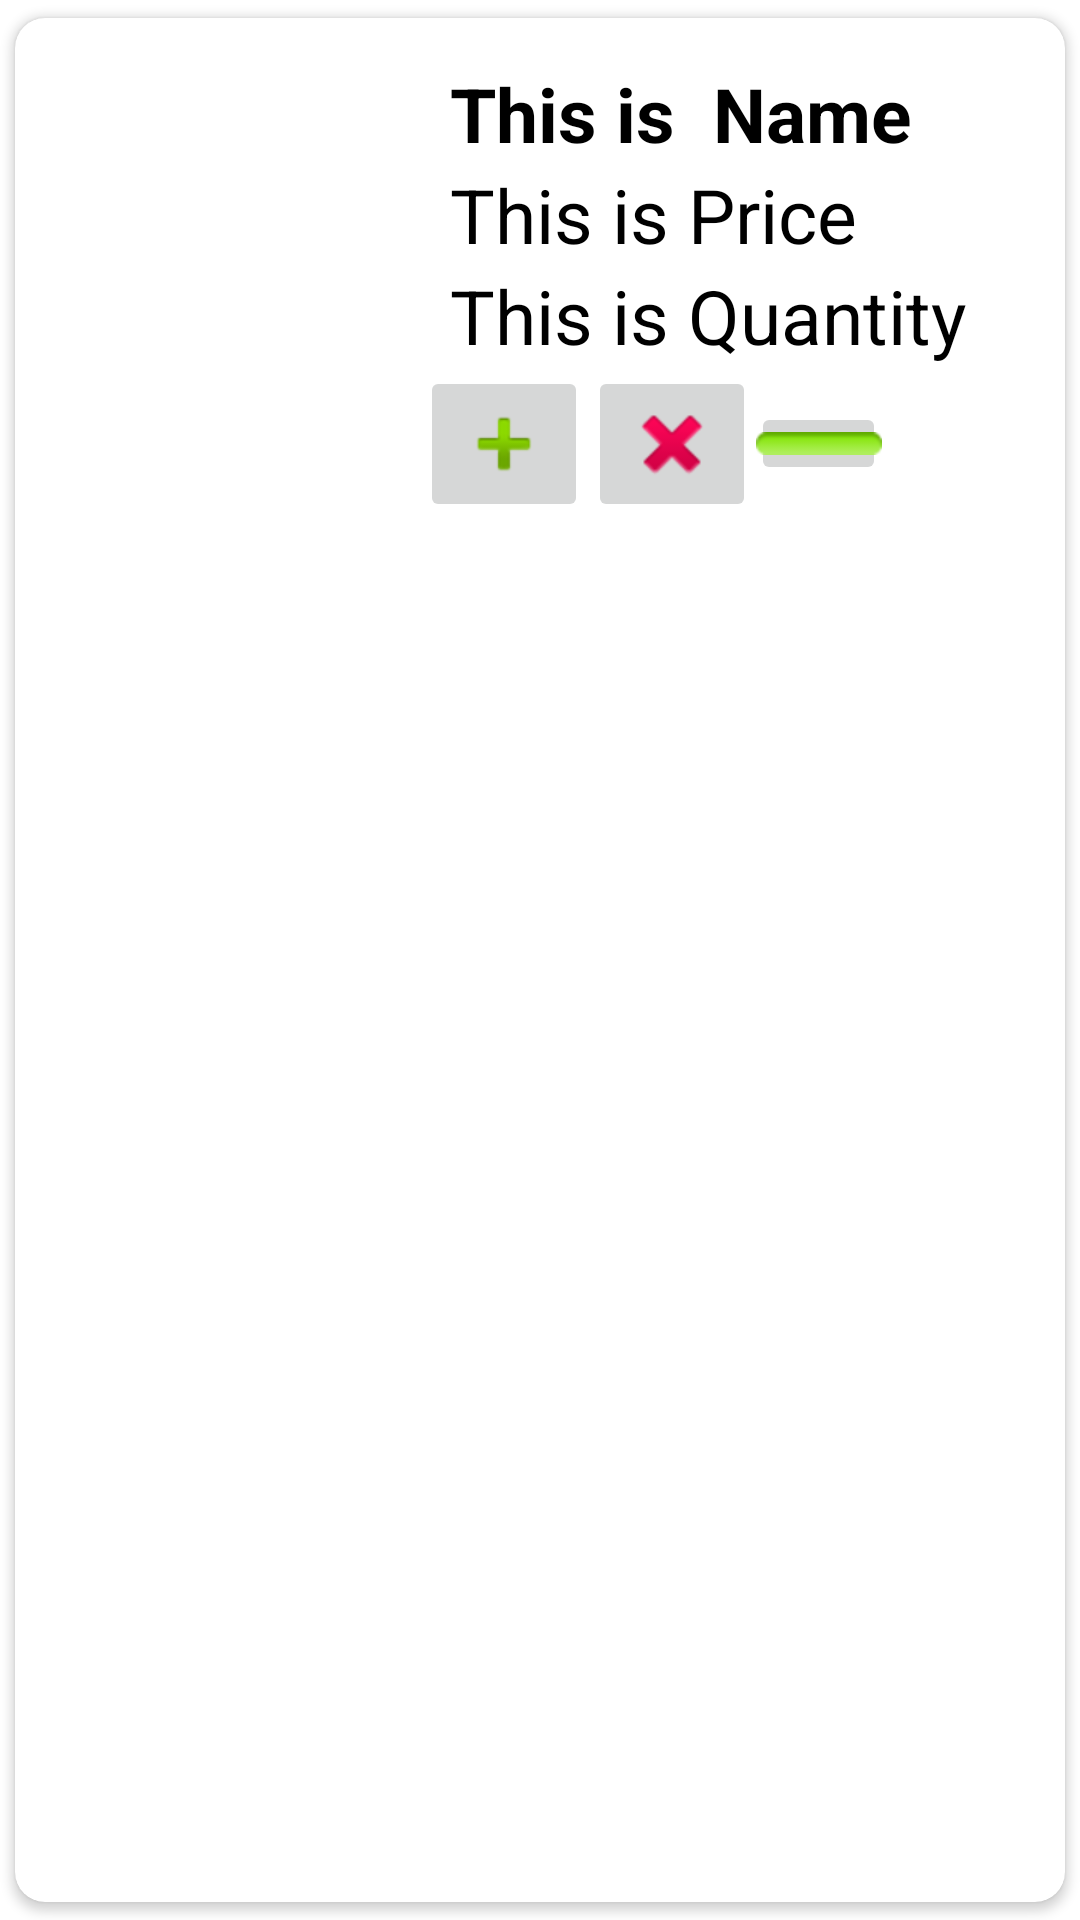

Screen size 1080*1920. Icon name, then its box in pixels as (x1, y1, x2, y2):
add: (432, 384, 576, 504)
delete: (600, 384, 744, 504)
